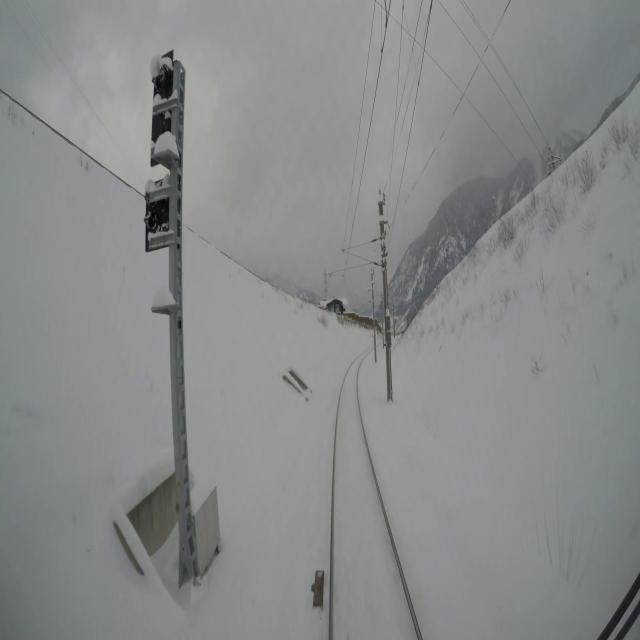rail-track: (335, 356, 417, 639)
